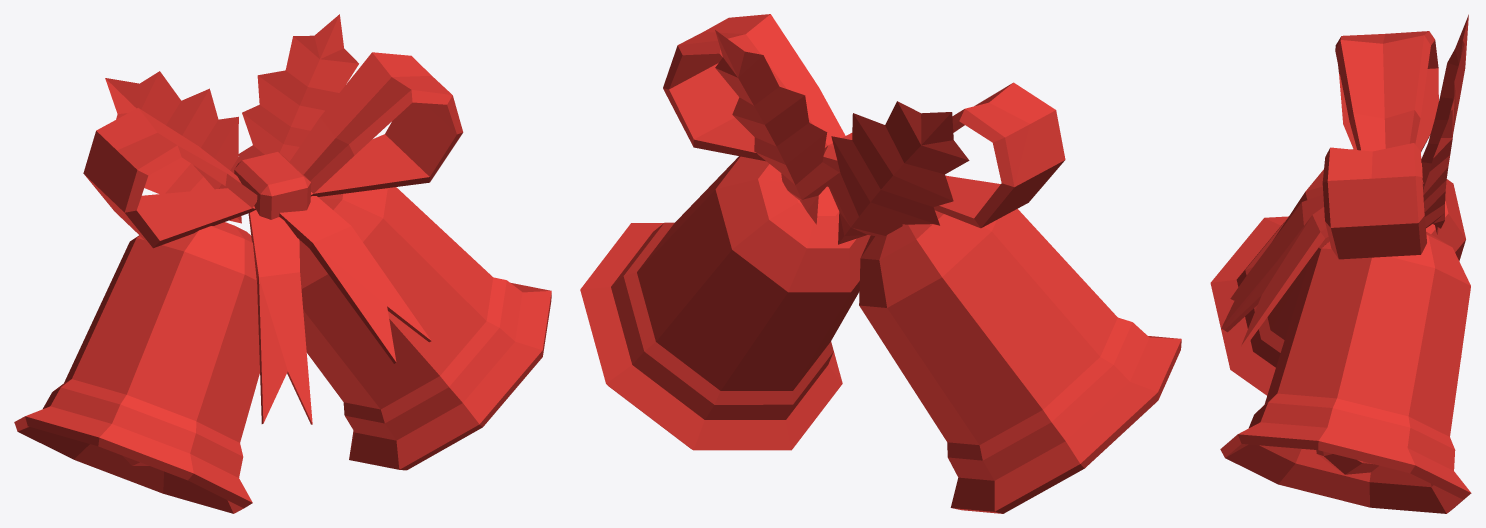
Rendered from SM_Bell_C_Christmas.fbx.
3 renders of one model, left to right at view 1: azimuth 30°, elevation 25°; view 2: azimuth 150°, elevation 25°; view 3: azimuth 270°, elevation 25°, orthographic. The views are drawn at different scales.
Parts seen in each view (by area): view 1: bell-c-christmas; view 2: bell-c-christmas; view 3: bell-c-christmas.
Part boxes in pixels (x1,y1,x2,y2): bell-c-christmas: [14, 14, 551, 513]; bell-c-christmas: [580, 14, 1181, 513]; bell-c-christmas: [1210, 14, 1471, 513].
Bounding box in the file's own units: 0.3039 × 0.2365 × 0.1366.
